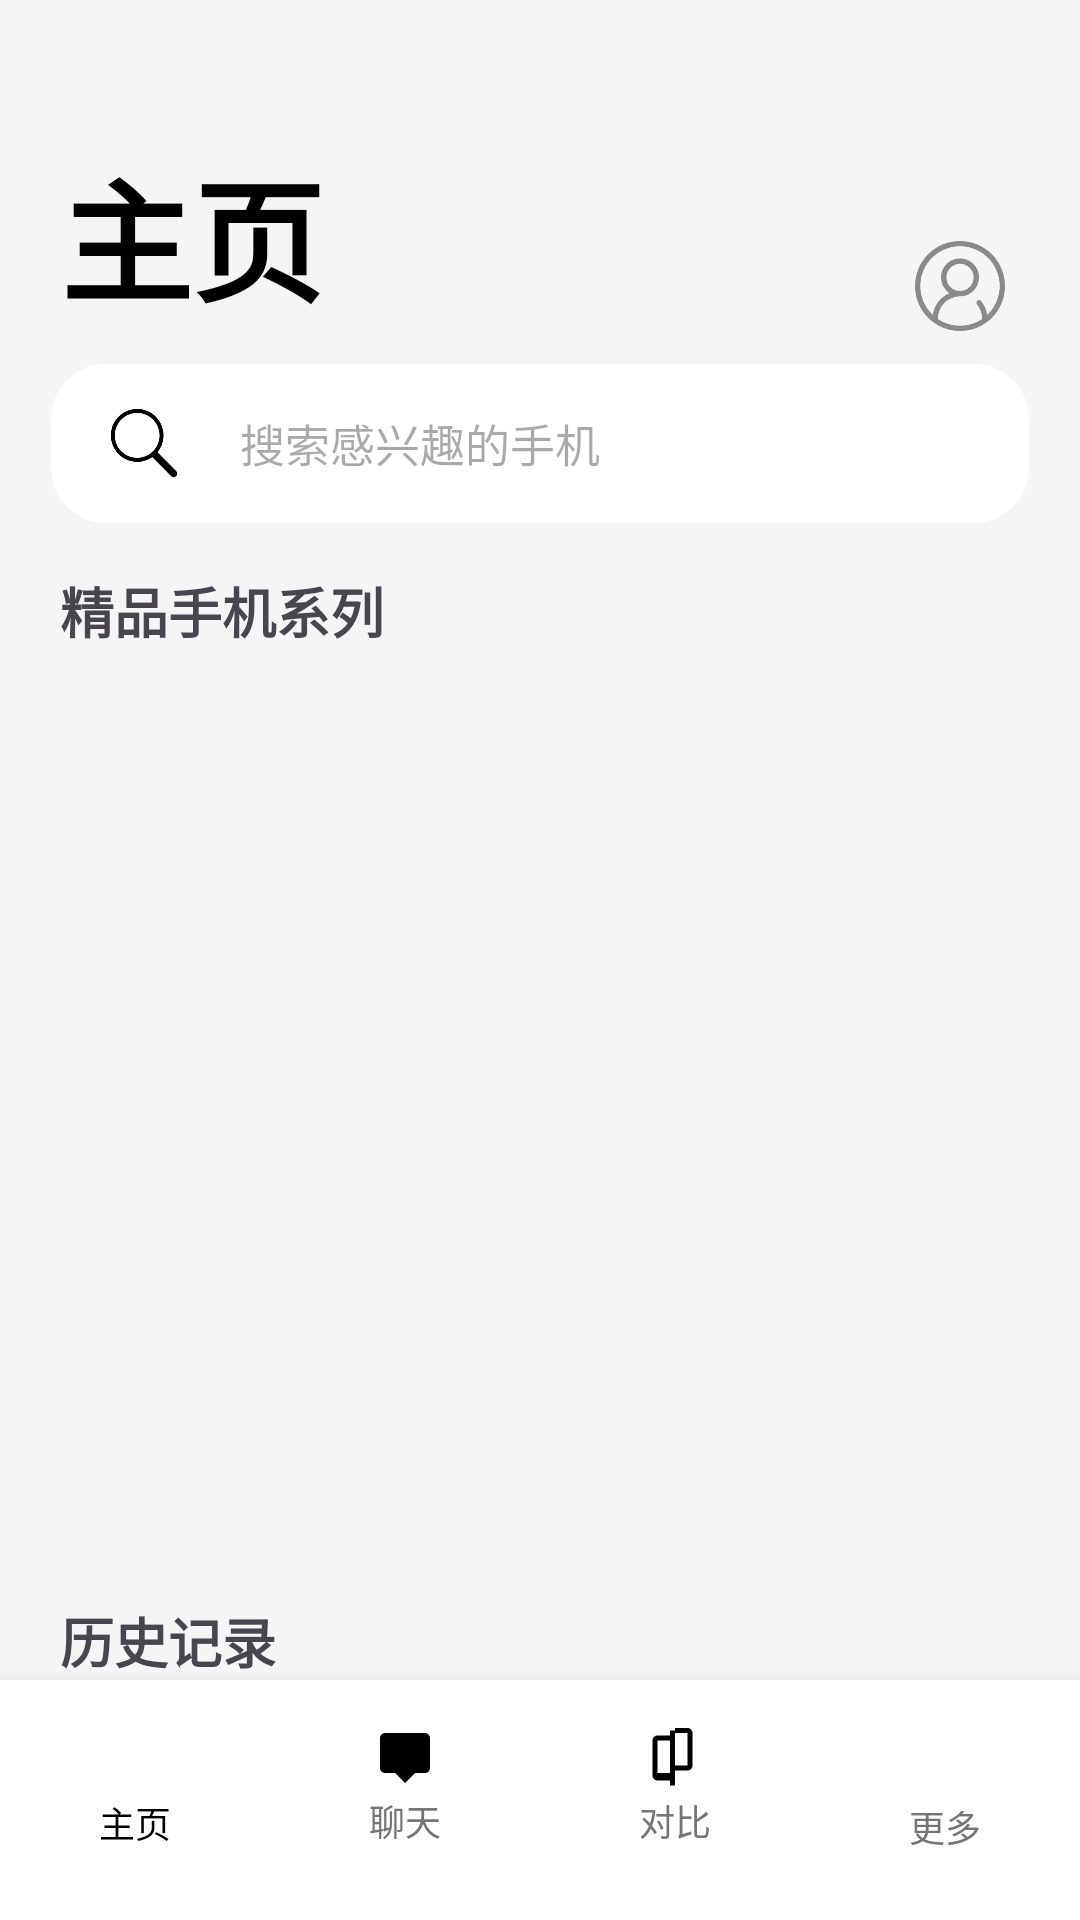

Icon bounding boxes for this 1080w x 1920h phone screenshot, format (x1, y1, x2, y2):
aacount: (915, 241, 1005, 331)
search: (111, 409, 177, 477)
